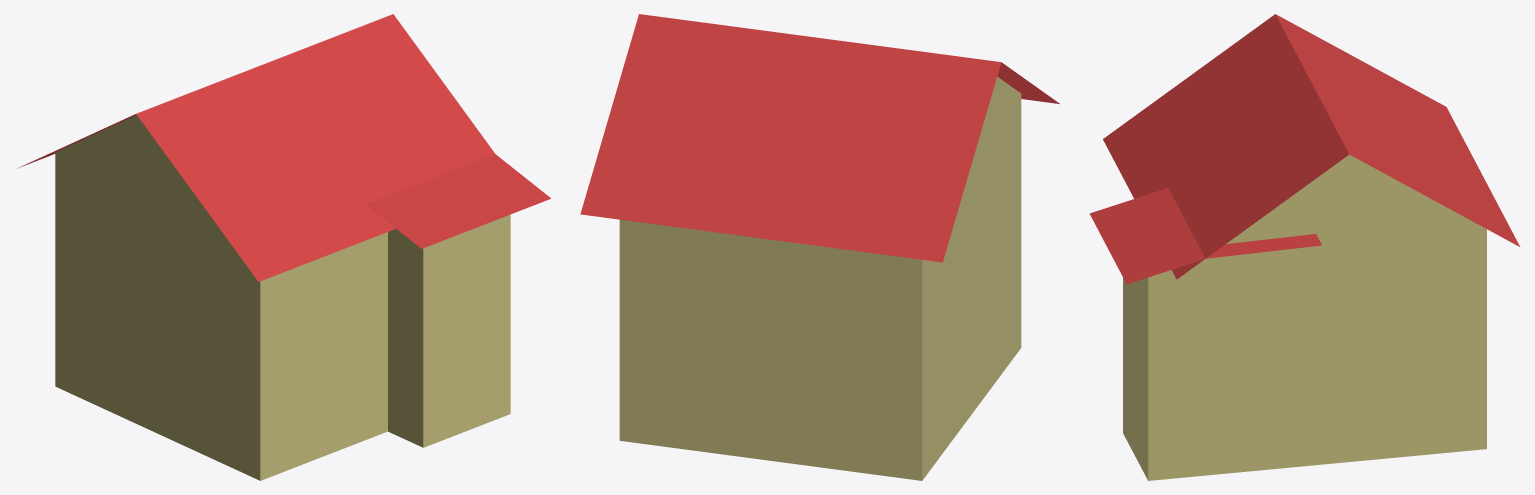
The picture shows the model from 3 angles, left to right: view 1: azimuth 30°, elevation 25°; view 2: azimuth 150°, elevation 25°; view 3: azimuth 270°, elevation 25°; orthographic projection. The views are drawn at different scales.
Bounding box in the file's own units: 14.91 × 15.3 × 12.52.
